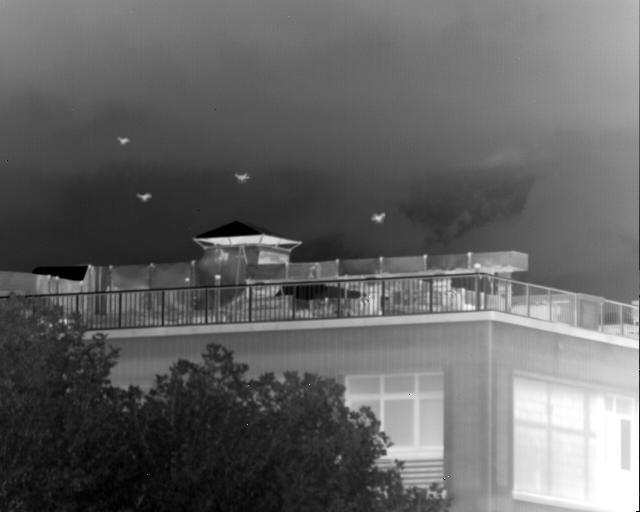plane: (136, 191, 152, 201), (371, 212, 385, 223), (235, 172, 250, 182), (117, 135, 130, 144)
